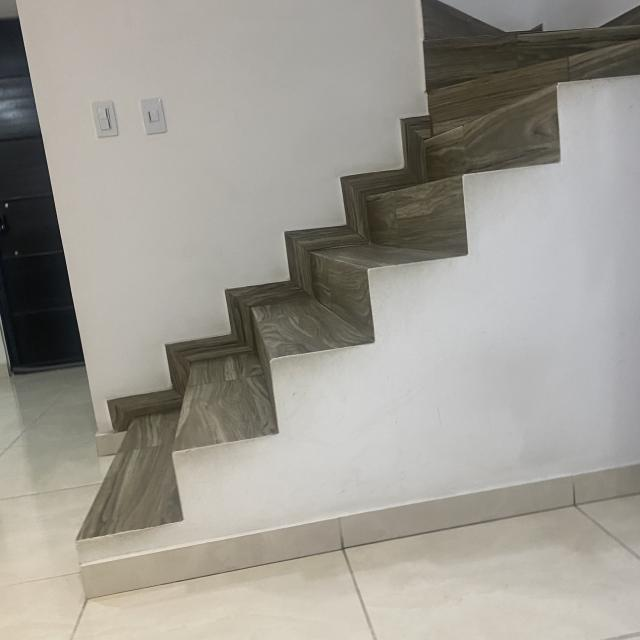stair: (61, 24, 628, 614)
